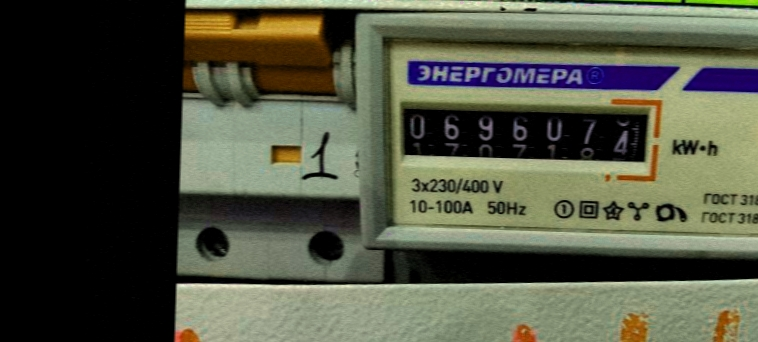0: (408, 110, 428, 140), (544, 113, 564, 141)
4: (611, 128, 630, 156)
6: (511, 112, 530, 141), (442, 112, 461, 140)
7: (579, 115, 599, 145)
9: (476, 113, 495, 142)
screen: (386, 86, 667, 182)
